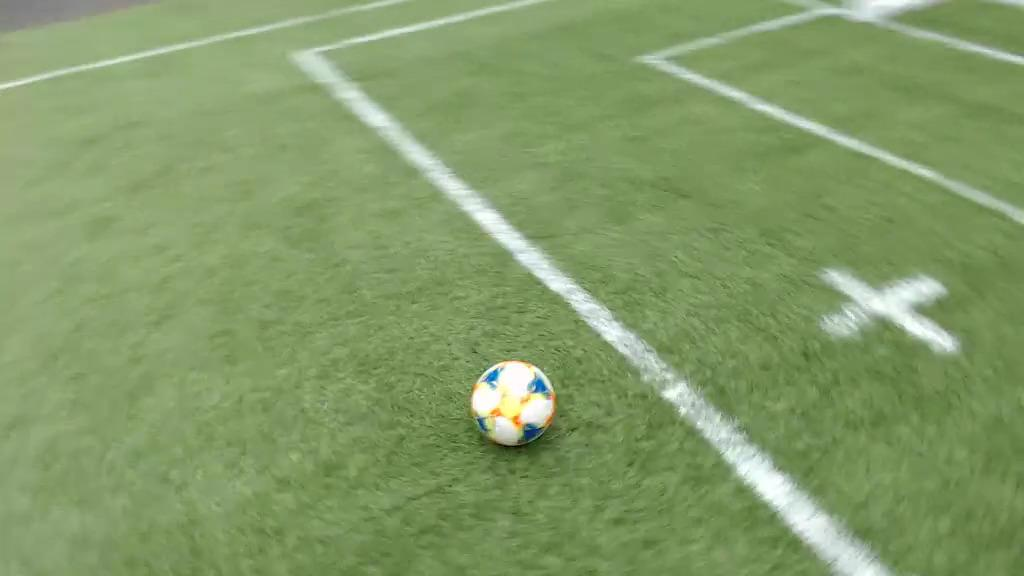ball: (465, 347, 570, 460)
